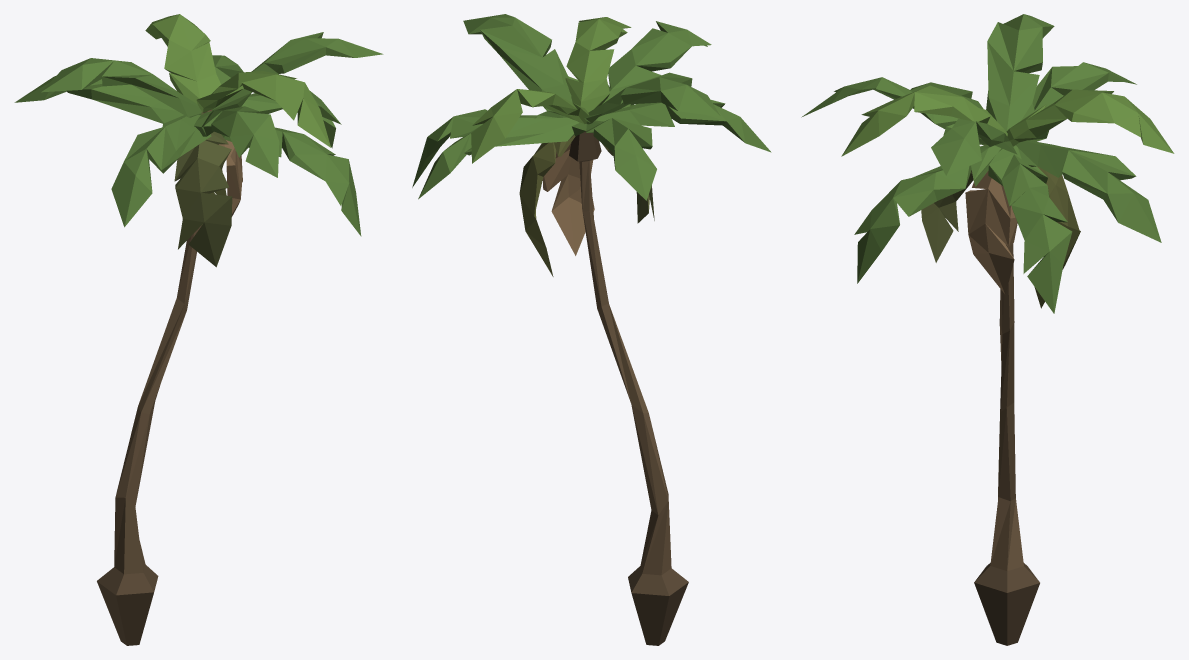
The model's file is SM_Env_PalmTree_02.glb.
3 renders of one model, left to right at view 1: azimuth 30°, elevation 25°; view 2: azimuth 150°, elevation 25°; view 3: azimuth 270°, elevation 25°, orthographic. The views are drawn at different scales.
Parts seen in each view (by area): view 1: SM_Env_PalmTree_02_part00; view 2: SM_Env_PalmTree_02_part00; view 3: SM_Env_PalmTree_02_part00.
Part boxes in pixels (x1,y1,x2,y2): SM_Env_PalmTree_02_part00: (14,14,383,645); SM_Env_PalmTree_02_part00: (412,14,771,645); SM_Env_PalmTree_02_part00: (801,14,1174,645).
Bounding box in the file's own units: 4.89 × 8.97 × 5.01.
1 material, 1 textured.
